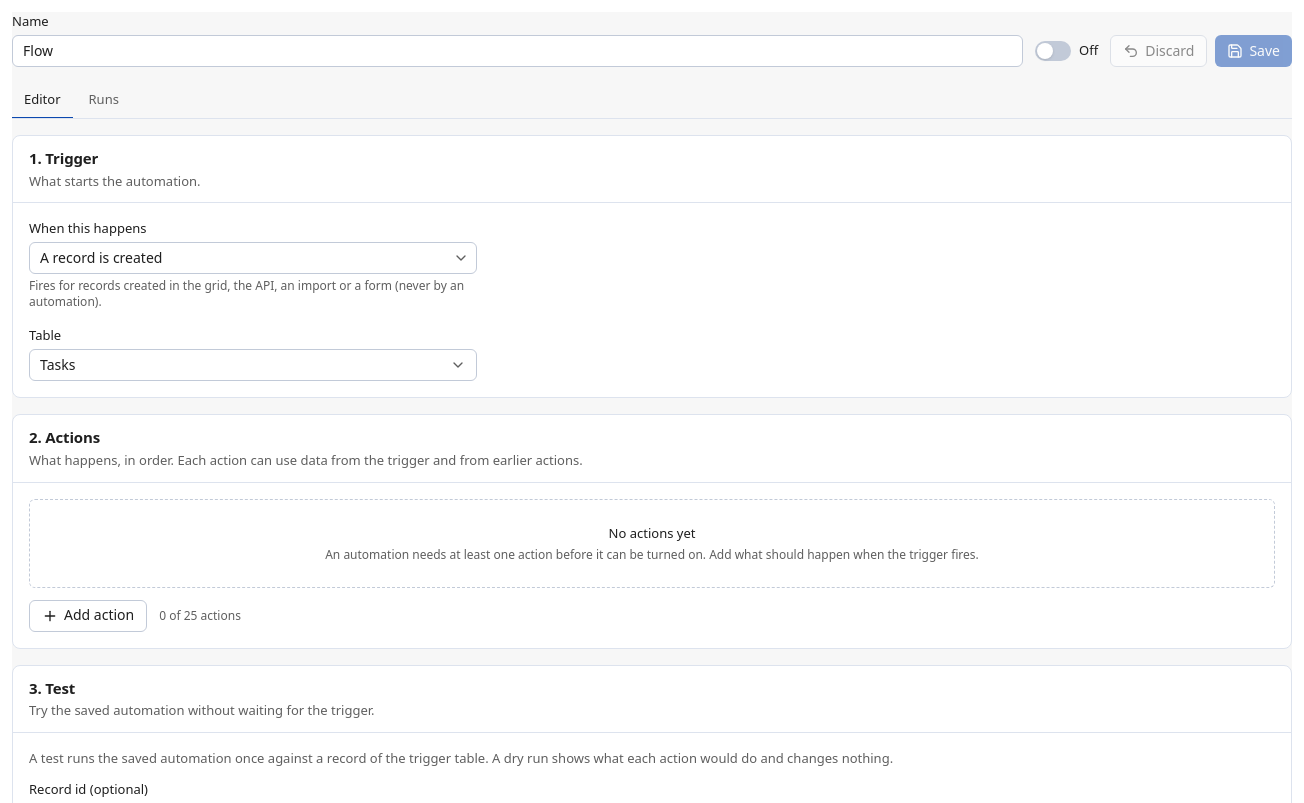
Test case: saving and the draft › turns Save off again after a save and says so
This screenshot has width=1304, height=803.
Expected: the button "Save" is shown, x1=1215 y1=35 x2=1292 y2=67
Type "!" into the field labelled "Name" at (518, 51), box x1=12 y1=35 x2=1023 y2=67
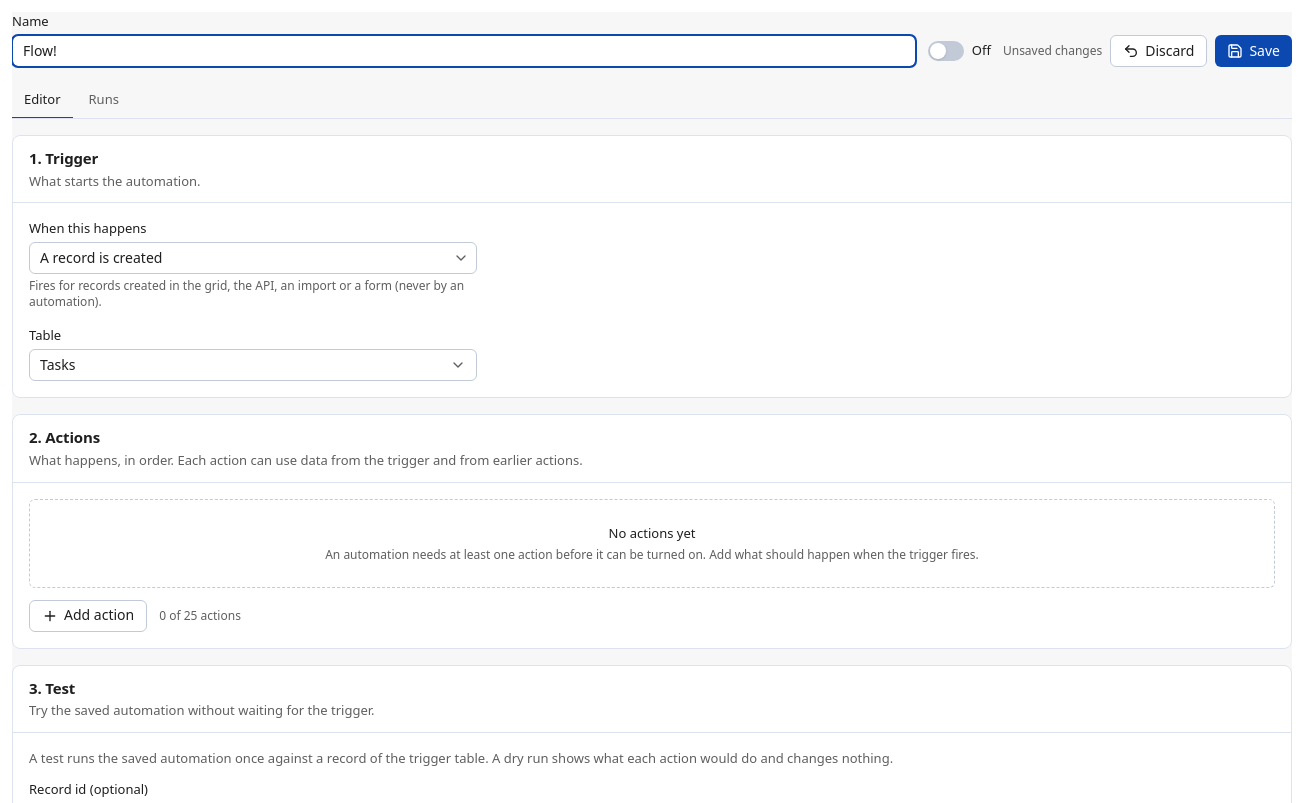
Click the button "Save" at (1254, 51), box x1=1215 y1=35 x2=1292 y2=67
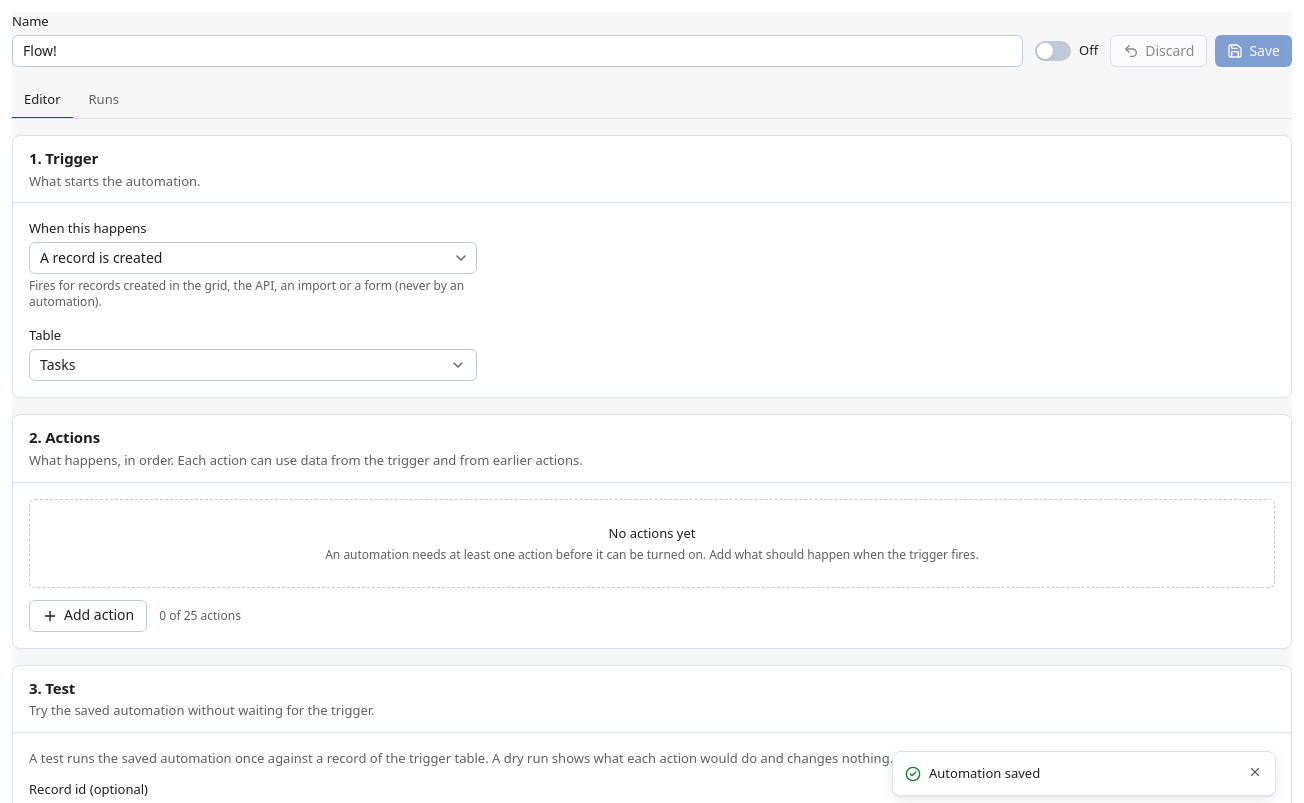
Expected: the text "Automation saved" is shown, x1=929 y1=764 x2=1040 y2=782
Expected: the button "Save" is disabled, x1=1215 y1=35 x2=1292 y2=67
